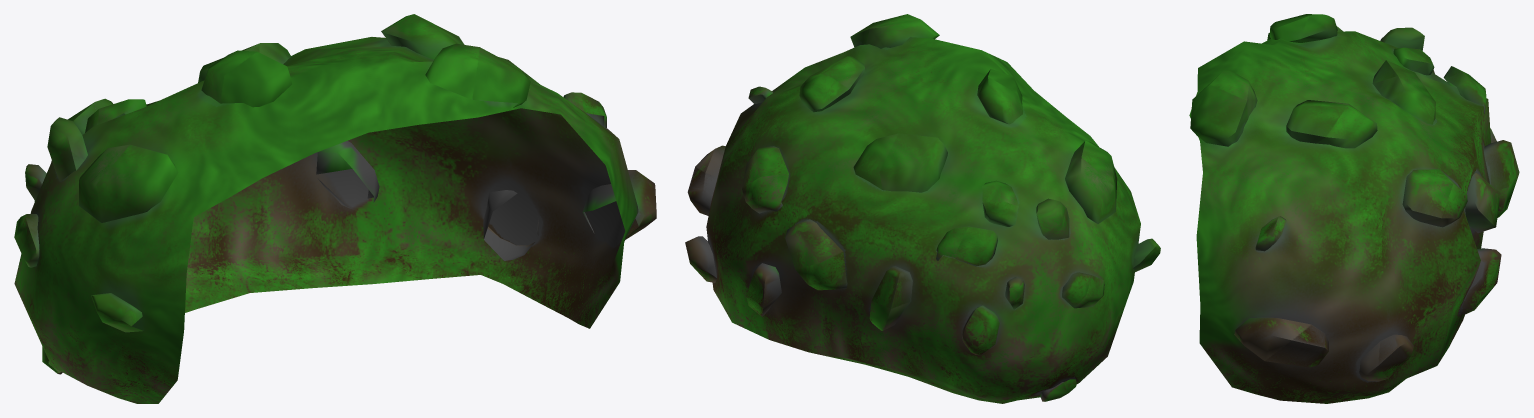
Rendered from MossFrame1.fbx.
3 renders of one model, left to right at view 1: azimuth 30°, elevation 25°; view 2: azimuth 150°, elevation 25°; view 3: azimuth 270°, elevation 25°, orthographic. The views are drawn at different scales.
Parts seen in each view (by area): view 1: MossStone1; view 2: MossStone1; view 3: MossStone1.
Boxes of the visible parts, <box> form: MossStone1: <box>14,14,656,403</box>; MossStone1: <box>685,14,1160,403</box>; MossStone1: <box>1189,14,1519,403</box>.
Bounding box in the file's own units: 425 × 241 × 262.
